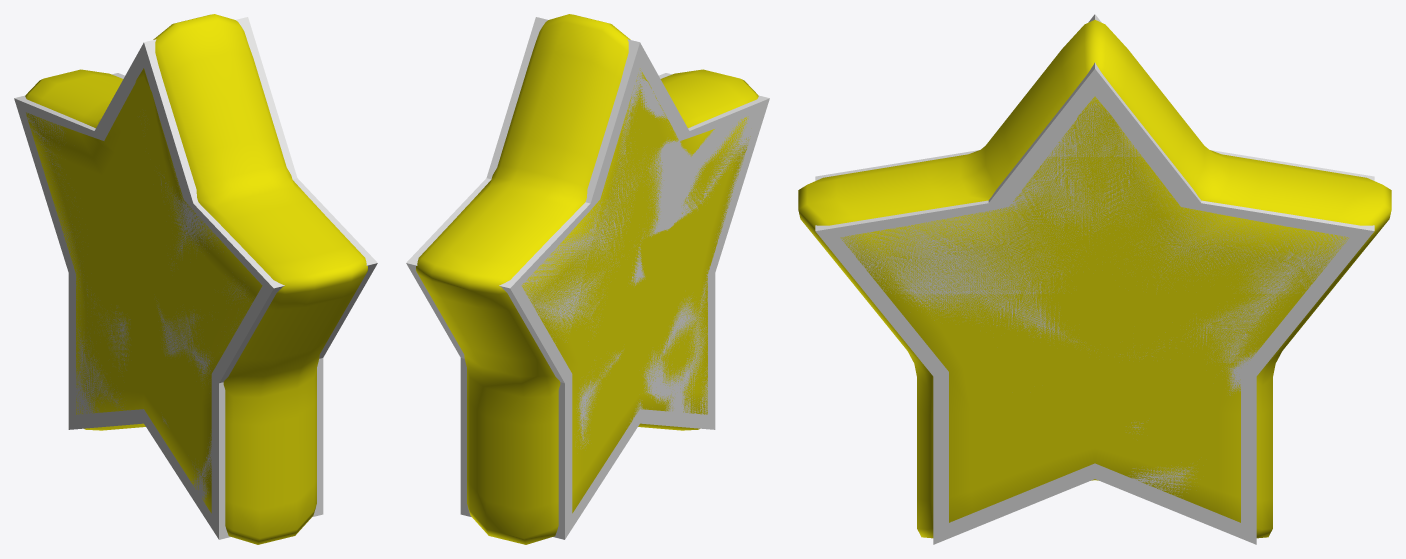
Rendered from star.fbx.
3 renders of one model, left to right at view 1: azimuth 30°, elevation 25°; view 2: azimuth 150°, elevation 25°; view 3: azimuth 270°, elevation 25°, orthographic. The views are drawn at different scales.
Parts seen in each view (by area): view 1: Cube Remeshed, Cube; view 2: Cube Remeshed, Cube; view 3: Cube Remeshed, Cube.
Part boxes in pixels (x1,y1,x2,y2): Cube Remeshed: [25, 14, 367, 544]; Cube: [14, 17, 377, 539]; Cube Remeshed: [416, 14, 758, 544]; Cube: [406, 17, 769, 539]; Cube Remeshed: [798, 20, 1391, 538]; Cube: [815, 14, 1374, 544].
Bounding box in the file's own units: 80 × 340 × 367.
